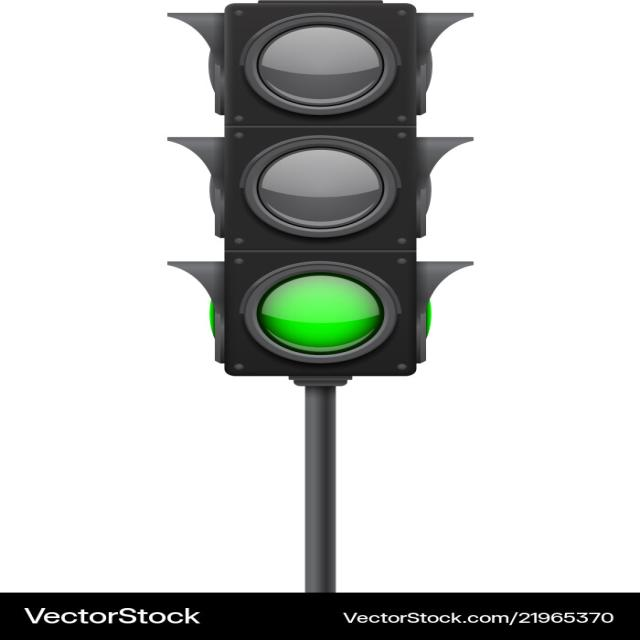green: (230, 245, 398, 356)
